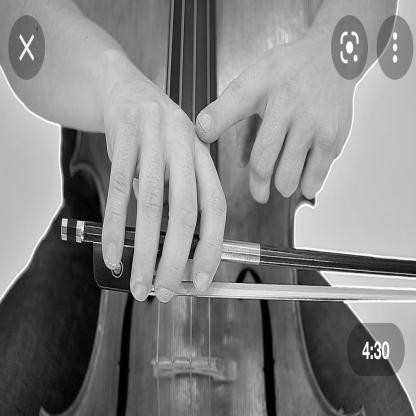good: (88, 55, 227, 315)
